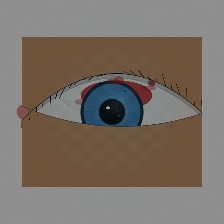hemorrhage_spot: (67, 56, 166, 135)
